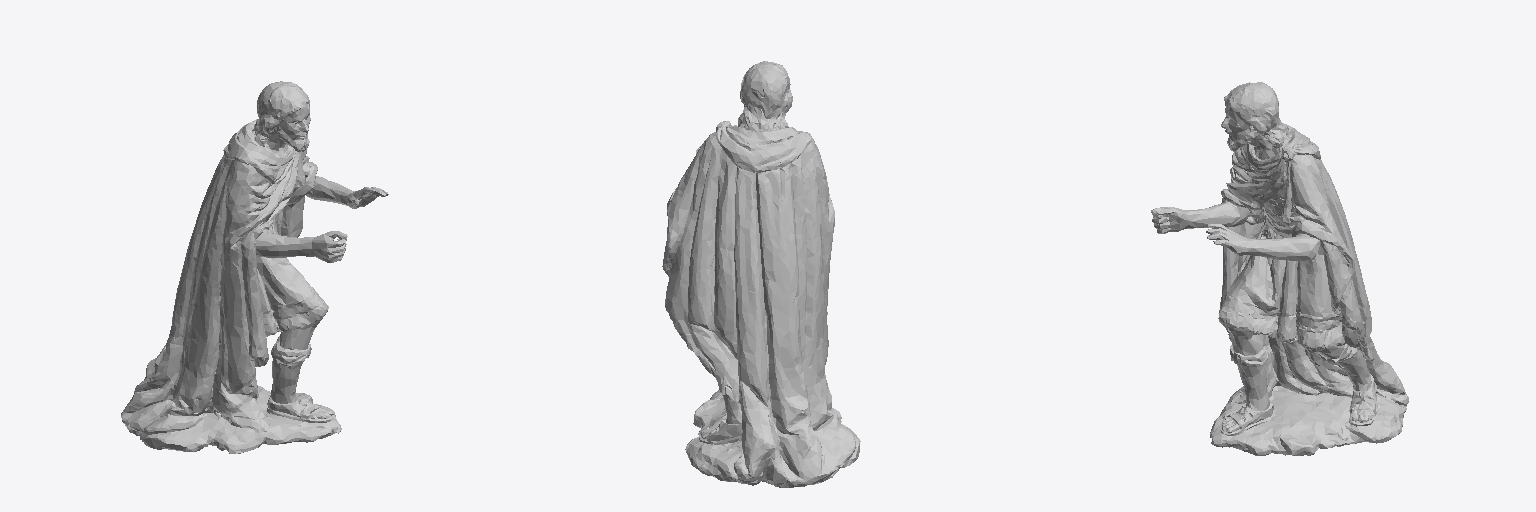
File: gasparBaixRes.obj
3 renders of one model, left to right at view 1: azimuth 30°, elevation 25°; view 2: azimuth 150°, elevation 25°; view 3: azimuth 270°, elevation 25°, orthographic.
Parts seen in each view (by area): view 1: MCGO12000-279_200K; view 2: MCGO12000-279_200K; view 3: MCGO12000-279_200K.
Part boxes in pixels (x1,y1,x2,y2): MCGO12000-279_200K: (121,81,388,453); MCGO12000-279_200K: (662,61,860,487); MCGO12000-279_200K: (1151,82,1408,455).
Bounding box in the file's own units: 0.1179 × 0.2 × 0.1314.